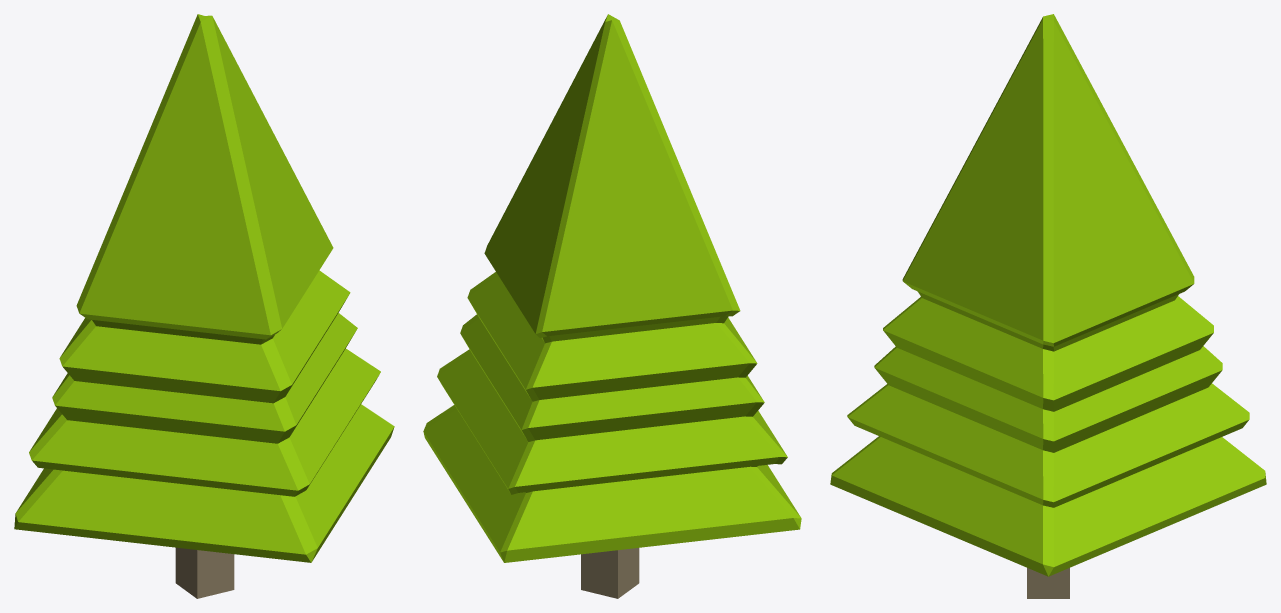
File: pine_11_bevel.fbx
3 renders of one model, left to right at view 1: azimuth 30°, elevation 25°; view 2: azimuth 150°, elevation 25°; view 3: azimuth 270°, elevation 25°, orthographic.
Visible parts, largest first — view 1: pine_11_bevel; view 2: pine_11_bevel; view 3: pine_11_bevel.
Part boxes in pixels (box(x1,y1,x2,y2)): pine_11_bevel: box(14, 14, 394, 598); pine_11_bevel: box(423, 14, 801, 598); pine_11_bevel: box(830, 14, 1266, 598).
Size of the model in its own units: 122 by 177 by 122.
